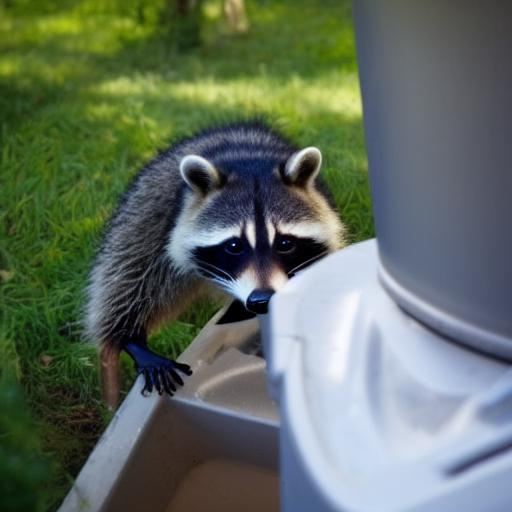raccoon: (75, 115, 354, 355)
